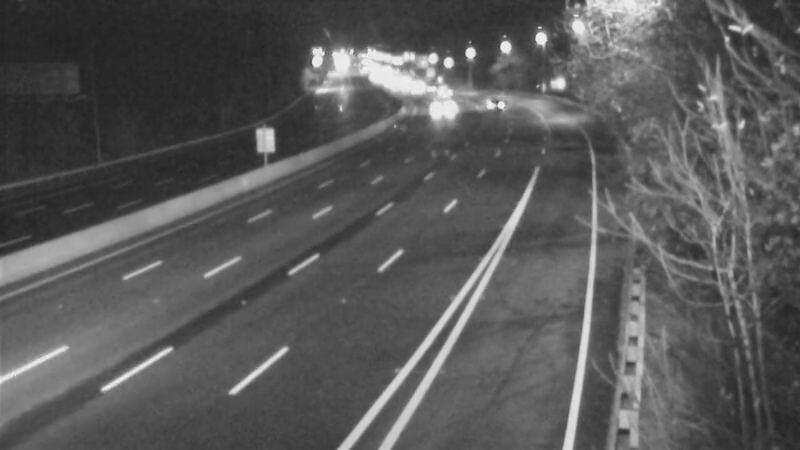vehicle: (422, 66, 472, 116), (466, 78, 516, 128), (420, 76, 470, 126)
